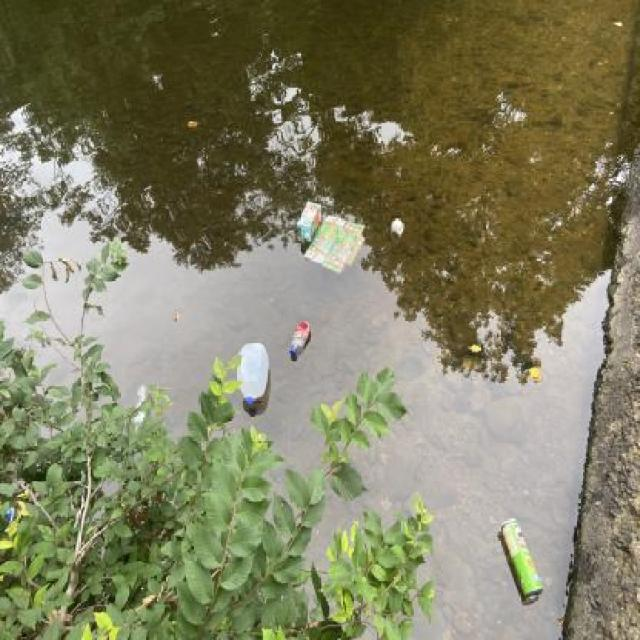Can-Metal: (494, 513, 548, 607)
Cardboard: (293, 199, 365, 270)
Paper: (388, 213, 407, 241)
Plastic: (231, 337, 272, 418), (286, 317, 314, 363)
